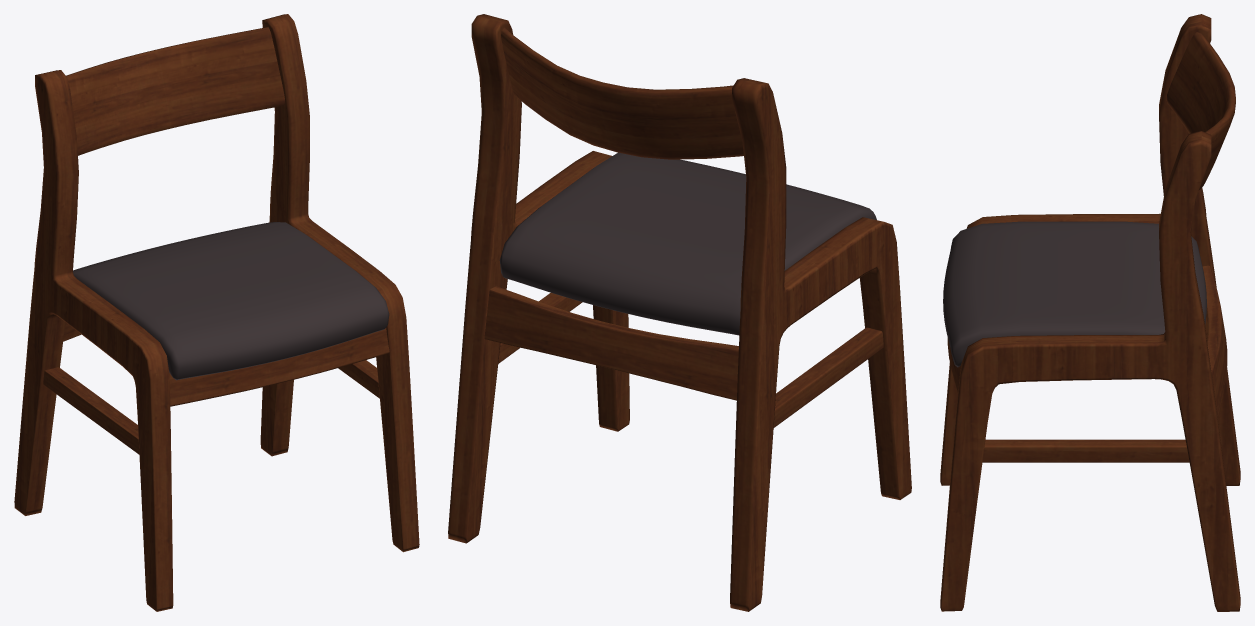
File: chair_34.001.fbx
3 views of the same model, side by side, from view 1: azimuth 30°, elevation 25°; view 2: azimuth 150°, elevation 25°; view 3: azimuth 270°, elevation 25° (orthographic). The views are drawn at different scales.
Visible parts, largest first — view 1: chair_34.001; view 2: chair_34.001; view 3: chair_34.001.
Part boxes in pixels (bbox=[...]): chair_34.001: bbox=[14, 14, 419, 611]; chair_34.001: bbox=[448, 14, 911, 611]; chair_34.001: bbox=[940, 14, 1240, 611].
Size of the model in its own units: 46.34 by 75.03 by 43.64.
Materials: 1 (1 with a texture image).
